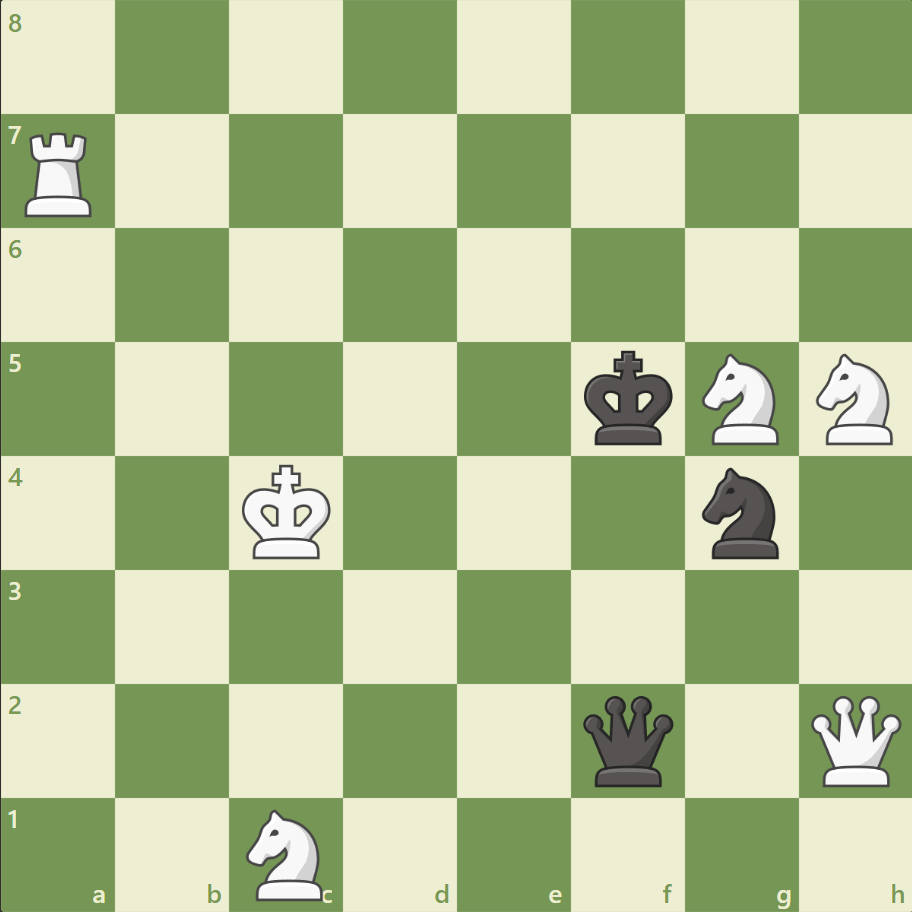K: (238, 458, 338, 566)
N: (692, 348, 789, 450), (806, 348, 903, 450), (238, 802, 335, 904)
Q: (805, 690, 904, 789)
R: (19, 125, 102, 222)
k: (579, 344, 679, 452)
n: (692, 461, 789, 564)
q: (578, 690, 677, 789)
